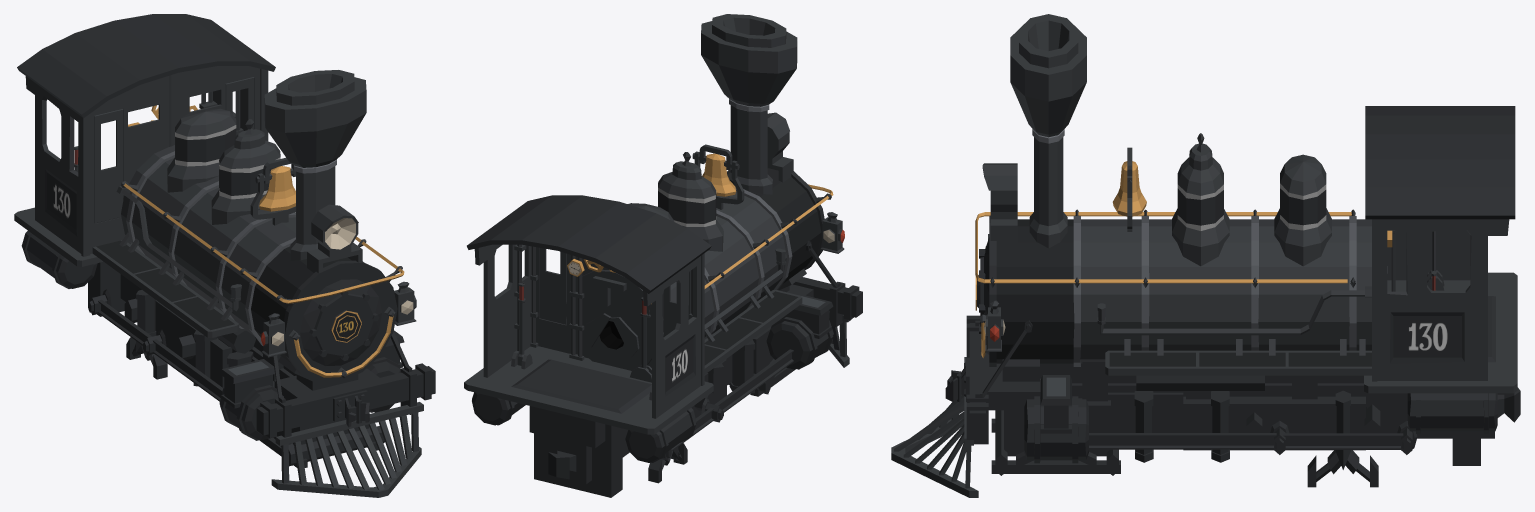
The model's file is SM_Veh_Train_01.fbx.
3 renders of one model, left to right at view 1: azimuth 30°, elevation 25°; view 2: azimuth 150°, elevation 25°; view 3: azimuth 270°, elevation 25°, orthographic. The views are drawn at different scales.
Visible parts, largest first — view 1: SM_Veh_Train_01, SM_Veh_Train_01_Alt_Smokestack, SM_Veh_Train_01_Bell; view 2: SM_Veh_Train_01, SM_Veh_Train_01_Alt_Smokestack, SM_Veh_Train_01_Bell; view 3: SM_Veh_Train_01, SM_Veh_Train_01_Alt_Smokestack, SM_Veh_Train_01_Bell.
Part boxes in pixels (x1,y1,x2,y2): SM_Veh_Train_01: (14, 14, 435, 497); SM_Veh_Train_01_Alt_Smokestack: (264, 70, 366, 167); SM_Veh_Train_01_Bell: (259, 166, 295, 211); SM_Veh_Train_01: (464, 99, 862, 497); SM_Veh_Train_01_Alt_Smokestack: (701, 14, 797, 106); SM_Veh_Train_01_Bell: (702, 153, 736, 196); SM_Veh_Train_01: (891, 106, 1520, 497); SM_Veh_Train_01_Alt_Smokestack: (1010, 14, 1086, 137); SM_Veh_Train_01_Bell: (1112, 161, 1146, 216).
Bounding box in the file's own units: 492 × 838 × 1125.
